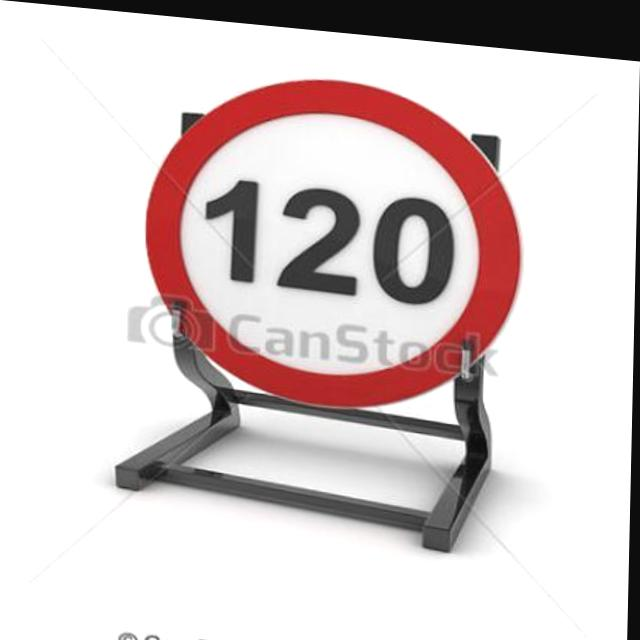limit120: (132, 54, 532, 419)
